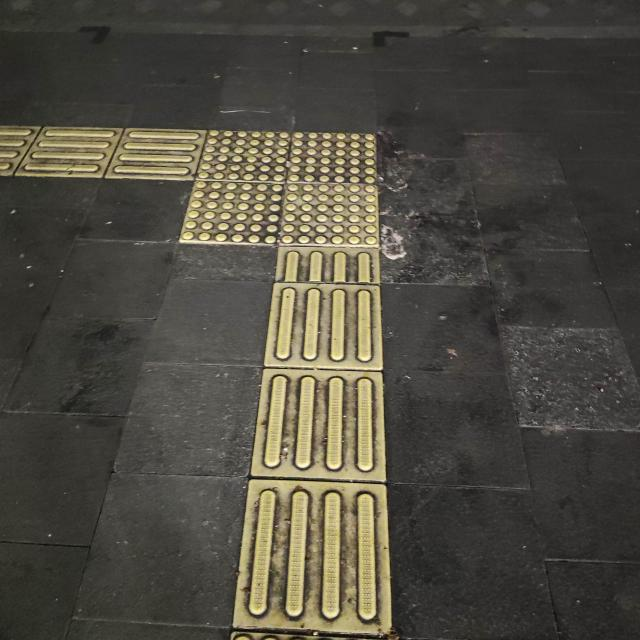kiri: (64, 87, 446, 306)
